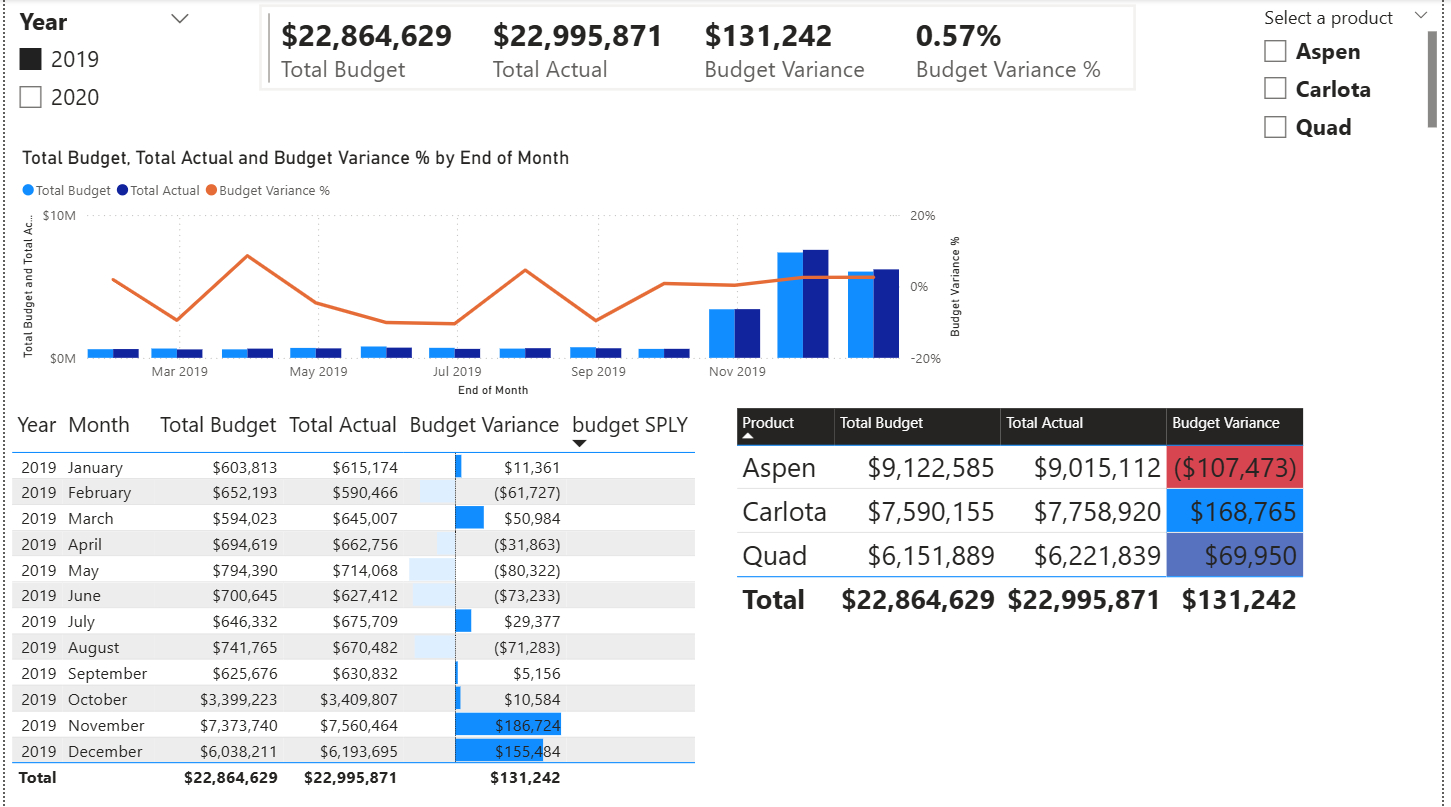

The page's visual inventory and layout, read from the dashboard file:
{"tool":"powerbi","page":{"name":"Main KPIs","canvas":[1280,720],"ordinal":0},"visuals":[{"type":"multiRowCard","fields":{"Values":["__Measures.Total Budget","__Measures.Total Actual","__Measures.Actual Variance","__Measures.Actual Variance %"]},"box":[221.3,0,790.6,96.4],"z":0},{"type":"lineClusteredColumnComboChart","fields":{"Category":["dCalendar.End of Month"],"Y":["__Measures.Total Budget","__Measures.Total Actual"],"Y2":["__Measures.Actual Variance %"]},"box":[10,131.4,847.1,228.2],"z":1000},{"type":"slicer","fields":{"Values":["dProduct.Product"]},"box":[1108.8,0,171.5,131.7],"z":2000},{"type":"tableEx","fields":{"Values":["dCalendar.Date.Variation.Date Hierarchy.Year","dCalendar.Date.Variation.Date Hierarchy.Month","__Measures.Total Budget","__Measures.Total Actual","__Measures.Actual Variance","__Measures.budget SPLY"]},"box":[0,359.6,641.2,360.7],"z":3000},{"type":"slicer","fields":{"Values":["dCalendar.Year"]},"box":[0,0,176.7,117.8],"z":4000},{"type":"tableEx","fields":{"Values":["dProduct.Product","__Measures.Total Budget","__Measures.Total Actual","__Measures.Actual Variance"]},"box":[645.6,359.6,634.5,360.7],"z":4001}]}

Visuals, with their boxes in screenshot pixels (x1, y1, x2, y2), scaled from the page's 1280x720 canvas onto the 1451x807 screenshot:
multiRowCard - __Measures.Total Budget x __Measures.Total Actual: [x1=251, y1=0, x2=1147, y2=108]
lineClusteredColumnComboChart - dCalendar.End of Month x __Measures.Total Budget: [x1=11, y1=147, x2=972, y2=403]
slicer - dProduct.Product: [x1=1257, y1=0, x2=1450, y2=148]
tableEx - dCalendar.Date.Variation.Date Hierarchy.Year x dCalendar.Date.Variation.Date Hierarchy.Month: [x1=0, y1=403, x2=727, y2=806]
slicer - dCalendar.Year: [x1=0, y1=0, x2=200, y2=132]
tableEx - dProduct.Product x __Measures.Total Budget: [x1=732, y1=403, x2=1450, y2=806]
